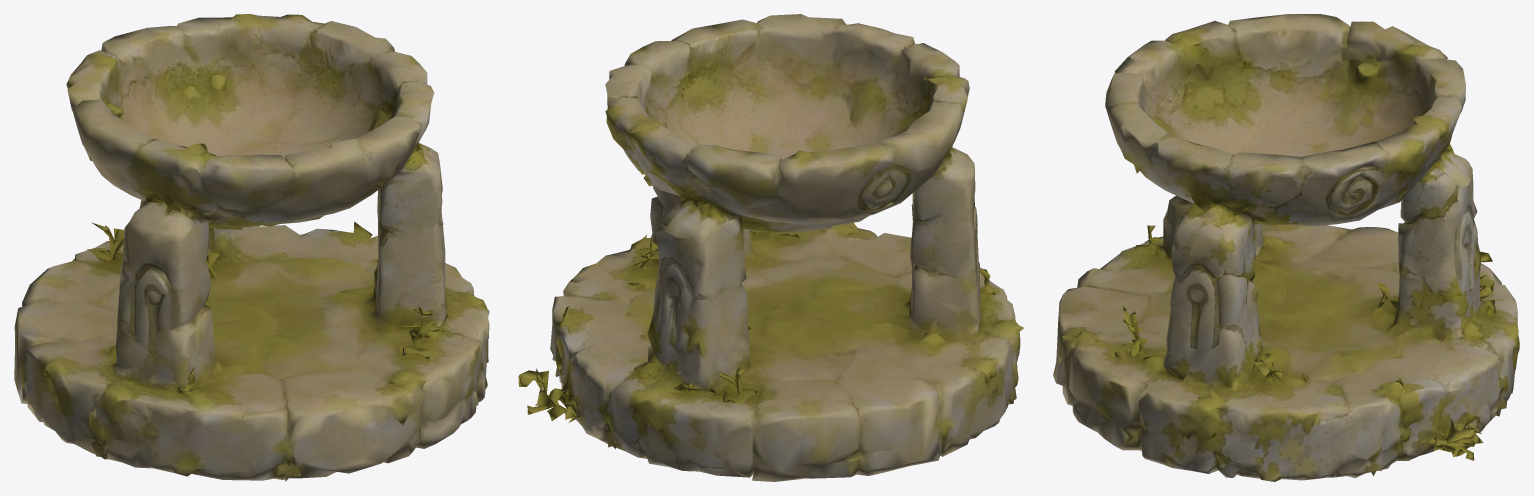
File: shrine.glb
3 views of the same model, side by side, from view 1: azimuth 30°, elevation 25°; view 2: azimuth 150°, elevation 25°; view 3: azimuth 270°, elevation 25° (orthographic).
Parts seen in each view (by area): view 1: tripo_node_30dff805_25f3_4233_8640_c7c640060286__shrine; view 2: tripo_node_30dff805_25f3_4233_8640_c7c640060286__shrine; view 3: tripo_node_30dff805_25f3_4233_8640_c7c640060286__shrine.
Boxes of the visible parts, x1,y1,x2,y2 form: tripo_node_30dff805_25f3_4233_8640_c7c640060286__shrine: (14,14,489,481); tripo_node_30dff805_25f3_4233_8640_c7c640060286__shrine: (518,14,1023,481); tripo_node_30dff805_25f3_4233_8640_c7c640060286__shrine: (1053,14,1519,481).
Size of the model in its own units: 1.69 by 1.2 by 1.69.
1 material, 1 textured.
